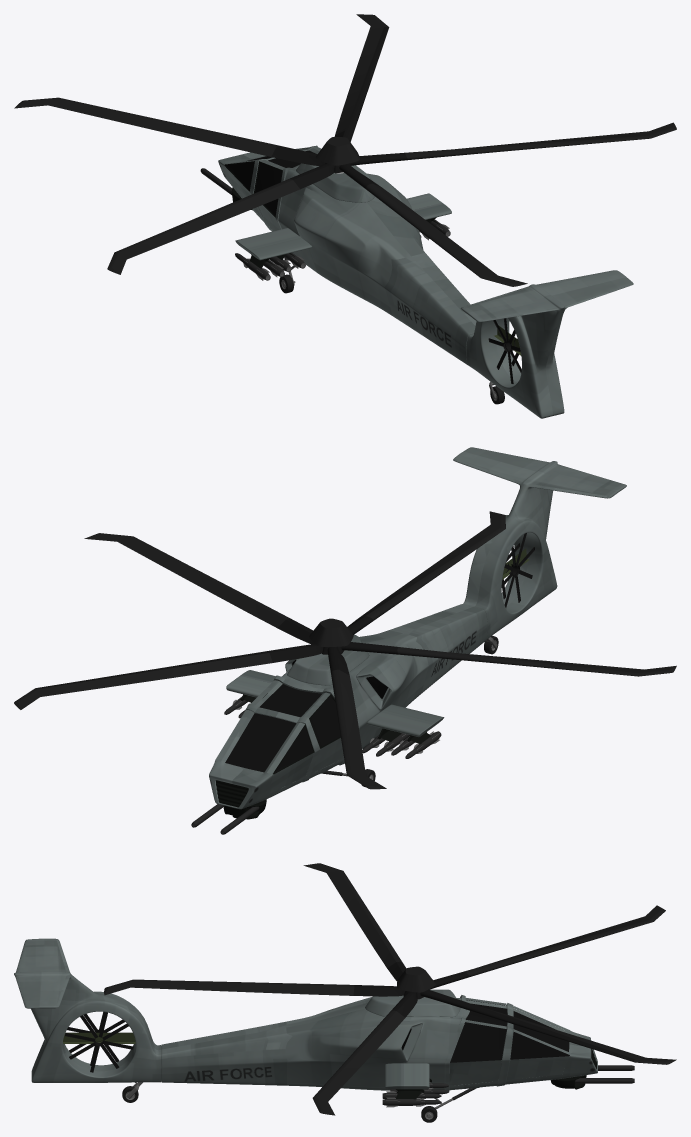
The model's file is army helicopter_fbx.fbx.
3 views of the same model, one above another, from view 1: azimuth 30°, elevation 25°; view 2: azimuth 150°, elevation 25°; view 3: azimuth 270°, elevation 25° (orthographic). The views are drawn at different scales.
Parts seen in each view (by area): view 1: mainbody, rotor, rear rotor; view 2: mainbody, rotor, rear rotor, Cube.004; view 3: mainbody, rotor, rear rotor.001, Plane, rear rotor, rocket.006.
Boxes of the visible parts, left/top/right/bottom form: mainbody: left=218, top=145, right=633, bottom=418; rotor: left=14, top=14, right=676, bottom=286; rear rotor: left=488, top=318, right=521, bottom=383; mainbody: left=209, top=447, right=626, bottom=809; rotor: left=14, top=511, right=676, bottom=789; rear rotor: left=501, top=533, right=534, bottom=607; Cube.004: left=216, top=780, right=248, bottom=807; mainbody: left=14, top=938, right=597, bottom=1090; rotor: left=104, top=863, right=676, bottom=1115; rear rotor.001: left=65, top=1012, right=133, bottom=1072; Plane: left=63, top=1032, right=135, bottom=1043; rear rotor: left=67, top=1012, right=124, bottom=1065; rocket.006: left=382, top=1097, right=441, bottom=1107.
Bounding box in the file's own units: 15.45 × 3.74 × 17.18.
